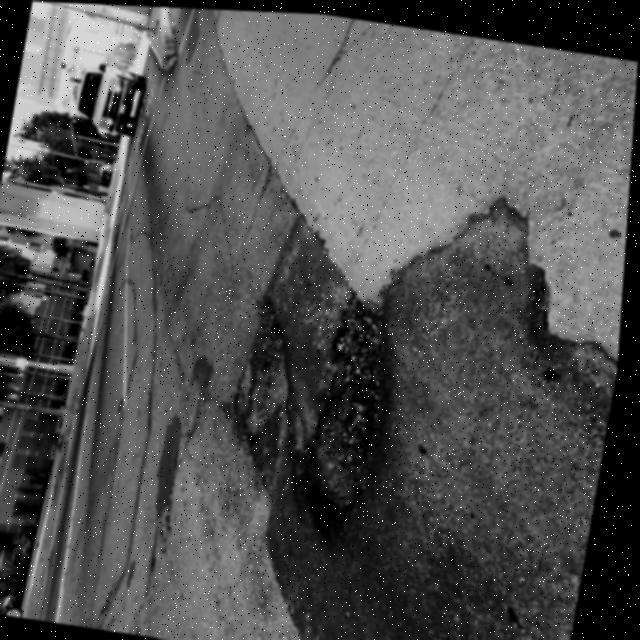pothole: (293, 286, 411, 544), (226, 292, 314, 454)
